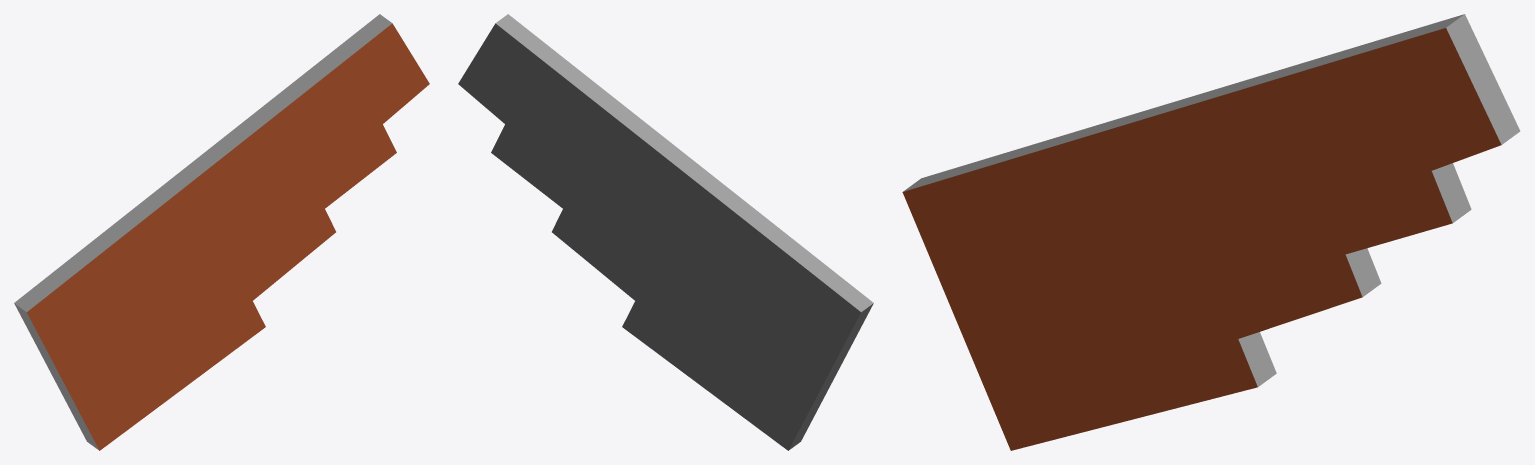
File: construction_0158_assumed_A_Grande_construcao_h6m.obj
3 views of the same model, side by side, from view 1: azimuth 30°, elevation 25°; view 2: azimuth 150°, elevation 25°; view 3: azimuth 330°, elevation 25° (orthographic). The views are drawn at different scales.
Visible parts, largest first — view 1: construction_0158_assumed_A_Grande_construcao; view 2: construction_0158_assumed_A_Grande_construcao; view 3: construction_0158_assumed_A_Grande_construcao.
Boxes of the visible parts, <box> form: construction_0158_assumed_A_Grande_construcao: <box>14,14,429,450</box>; construction_0158_assumed_A_Grande_construcao: <box>458,14,873,450</box>; construction_0158_assumed_A_Grande_construcao: <box>902,14,1520,450</box>.
Size of the model in its own units: 110 by 92.78 by 6.
